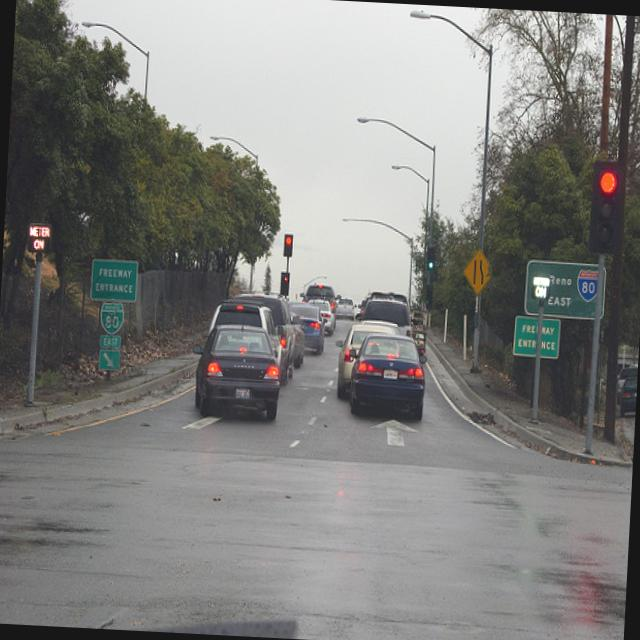Vehicle: (190, 325, 281, 420), (346, 332, 428, 421), (207, 298, 291, 382), (228, 292, 299, 380), (332, 322, 402, 402), (354, 296, 416, 336), (288, 304, 326, 354), (307, 298, 336, 336), (288, 314, 308, 369), (298, 285, 336, 310), (336, 298, 354, 320)
